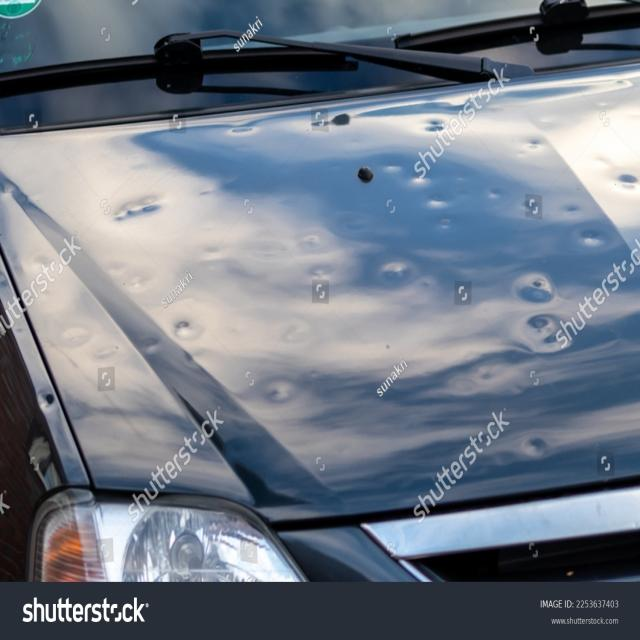dent: (59, 78, 640, 466)
